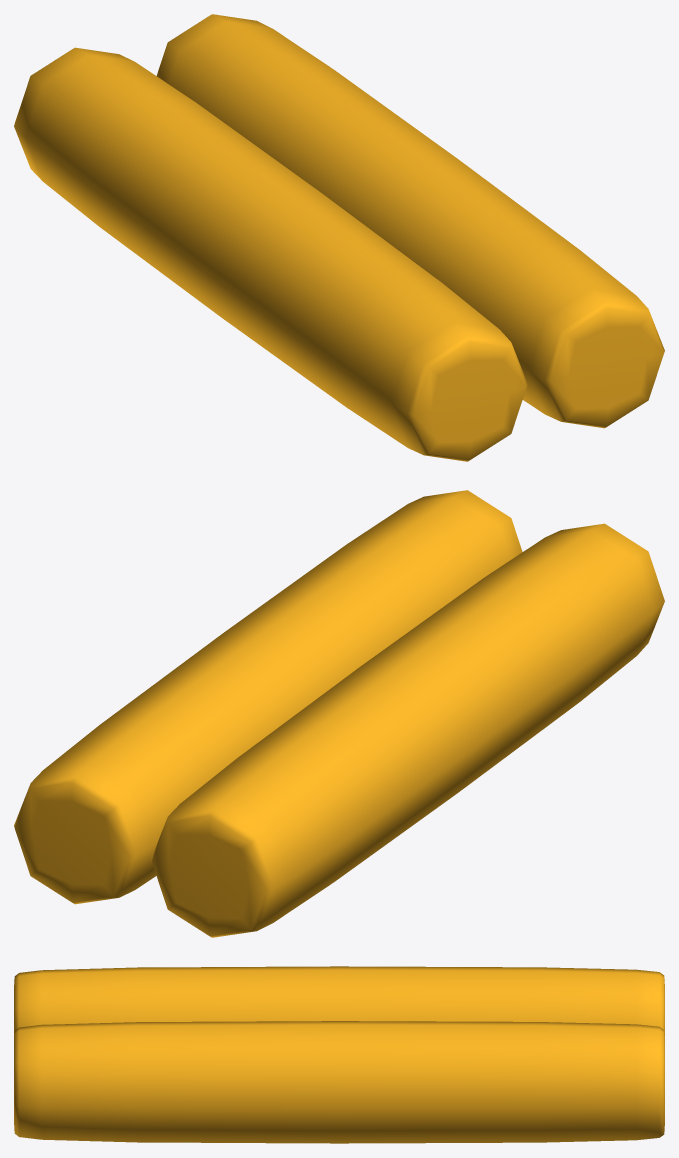
The model's file is Wood_2.fbx.
The picture shows the model from 3 angles, top to bottom: view 1: azimuth 30°, elevation 25°; view 2: azimuth 150°, elevation 25°; view 3: azimuth 270°, elevation 25°; orthographic projection. The views are drawn at different scales.
Parts seen in each view (by area): view 1: Wood_2_LP; view 2: Wood_2_LP; view 3: Wood_2_LP.
Boxes of the visible parts, box(x1,y1,x2,y2) form: Wood_2_LP: box(14, 14, 664, 461); Wood_2_LP: box(14, 490, 664, 937); Wood_2_LP: box(14, 966, 664, 1143).
Bounding box in the file's own units: 94.81 × 46.94 × 241.
1 material, 1 textured.
